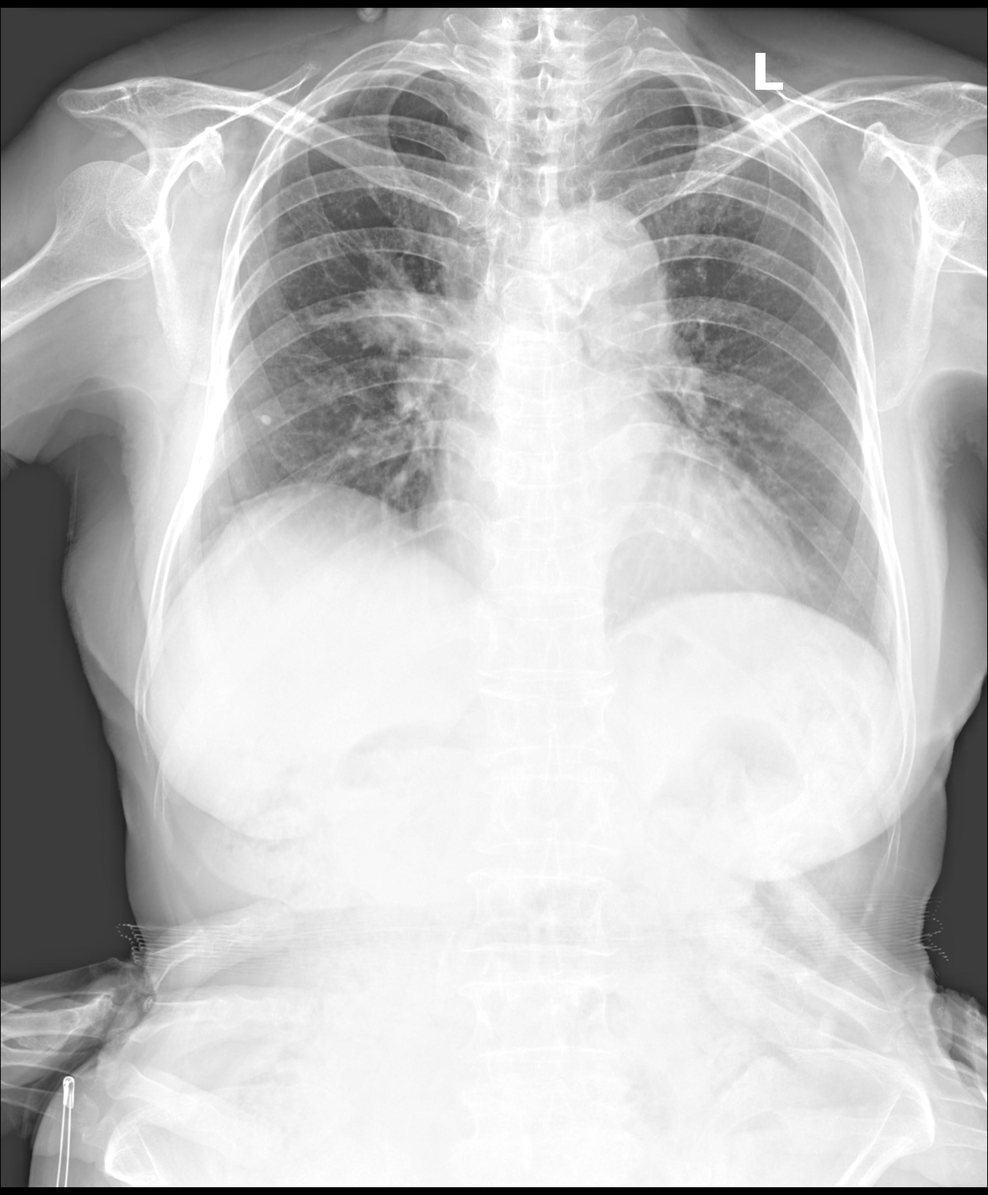Aortic enlargement: (540, 200, 667, 332)
Cardiomegaly: (410, 500, 813, 594)
Pulmonary fibrosis: (280, 186, 387, 280)
